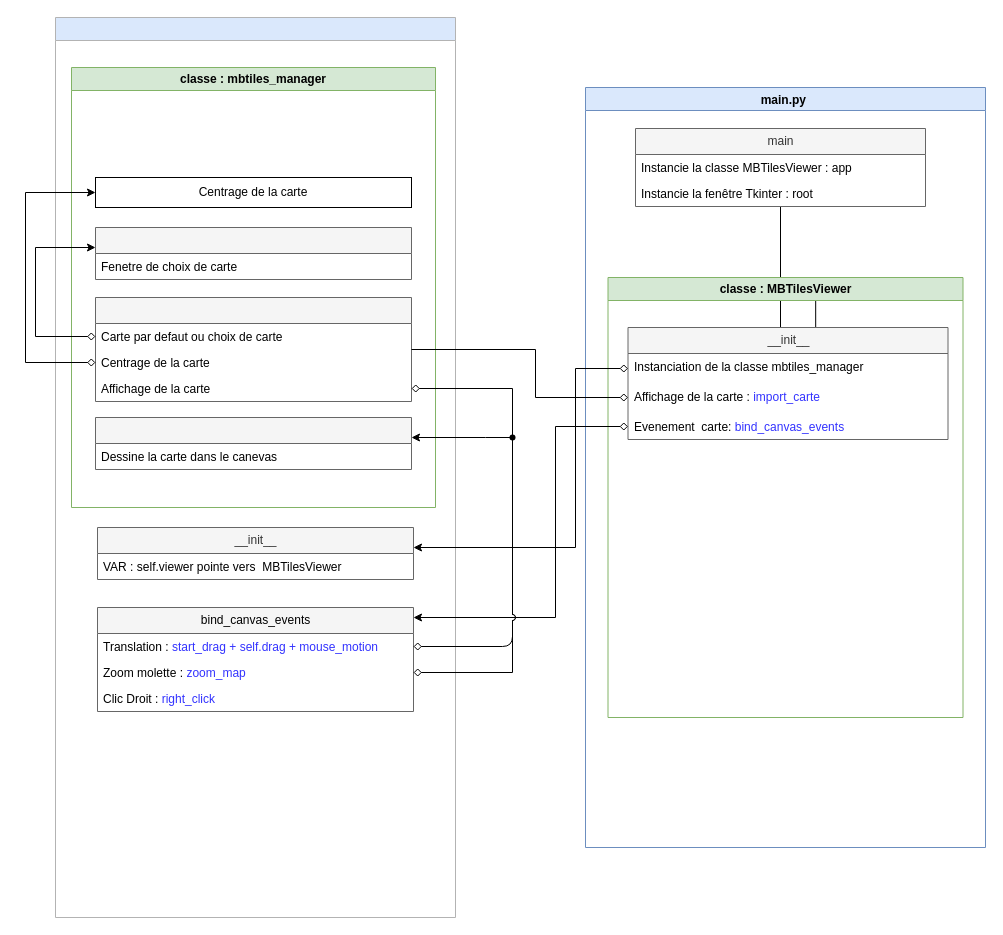
Some shapes in this 1003 by 935 pixel diagram are drawn without their labels. Each missing label, with the box of its shape:
choisir_carte: (94, 226, 412, 280)
draw_map: (94, 416, 412, 470)
import_carte: (94, 296, 412, 402)
mbtiles_manager.py: (54, 16, 456, 918)
